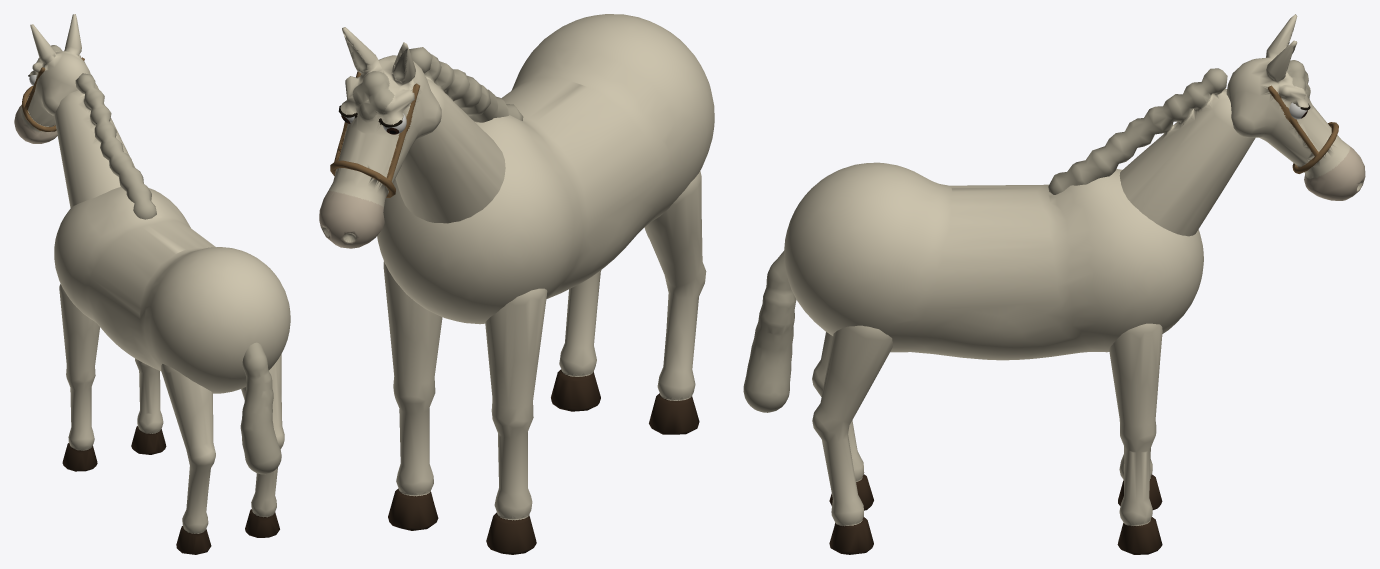
File: horse-white.glb
The picture shows the model from 3 angles, left to right: view 1: azimuth 30°, elevation 25°; view 2: azimuth 150°, elevation 25°; view 3: azimuth 270°, elevation 25°; orthographic projection. The views are drawn at different scales.
Visible parts, largest first — view 1: body_lod0, neck_lod0, leg_2_lod0, head_lod0, leg_0_lod0, tail_lod0, leg_3_lod0, leg_1_lod0; view 2: body_lod0, head_lod0, neck_lod0, leg_0_lod0, leg_1_lod0, leg_2_lod0, leg_3_lod0; view 3: body_lod0, neck_lod0, head_lod0, leg_3_lod0, leg_1_lod0, tail_lod0, leg_2_lod0.
Part boxes in pixels (x1,y1,x2,y2): body_lod0: (54, 187, 290, 393); neck_lod0: (54, 73, 156, 219); leg_2_lod0: (161, 364, 215, 554); head_lod0: (14, 14, 98, 143); leg_0_lod0: (59, 284, 99, 471); tail_lod0: (240, 342, 281, 474); leg_3_lod0: (241, 354, 284, 537); leg_1_lod0: (131, 358, 166, 454); body_lod0: (377, 14, 714, 324); head_lod0: (319, 27, 441, 248); neck_lod0: (395, 47, 523, 223); leg_0_lod0: (485, 288, 547, 554); leg_1_lod0: (383, 261, 442, 530); leg_2_lod0: (644, 171, 706, 434); leg_3_lod0: (551, 270, 601, 411); body_lod0: (784, 162, 1203, 360); neck_lod0: (1048, 68, 1255, 236); head_lod0: (1226, 14, 1365, 200); leg_3_lod0: (812, 325, 892, 554); leg_1_lod0: (1109, 323, 1162, 554); tail_lod0: (743, 250, 796, 412); leg_2_lod0: (812, 332, 873, 510).
Size of what is drawn, in the model's own units: 0.9409 by 2.84 by 3.22.
